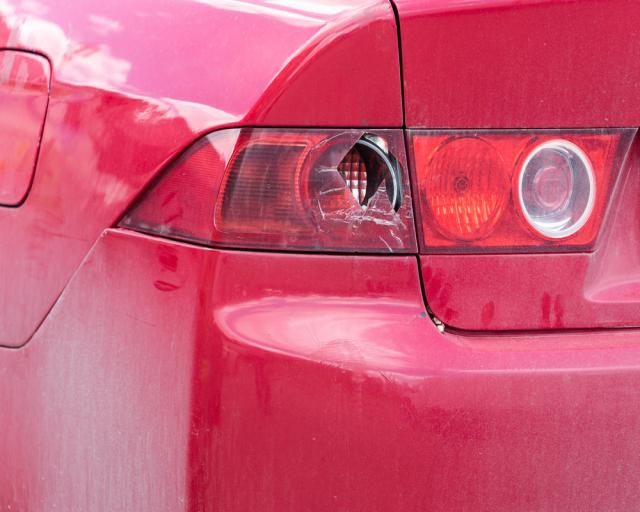lamp broken: (108, 126, 419, 254)
